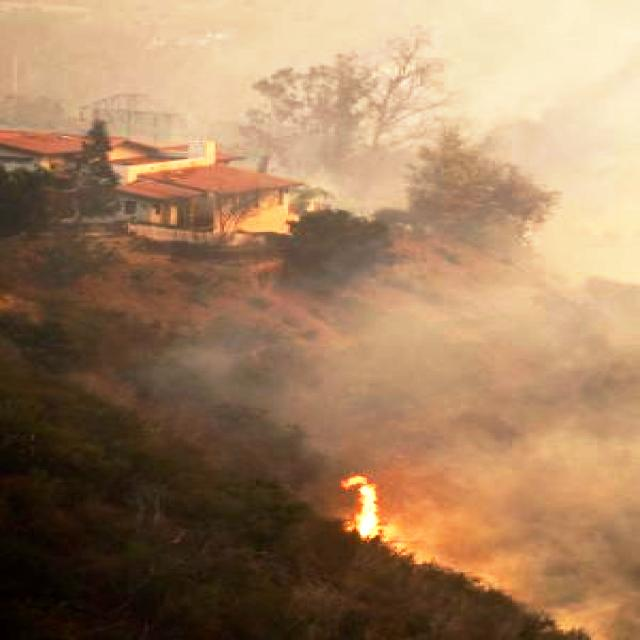api: (335, 469, 396, 548)
asap: (127, 1, 640, 519), (349, 422, 640, 640)
